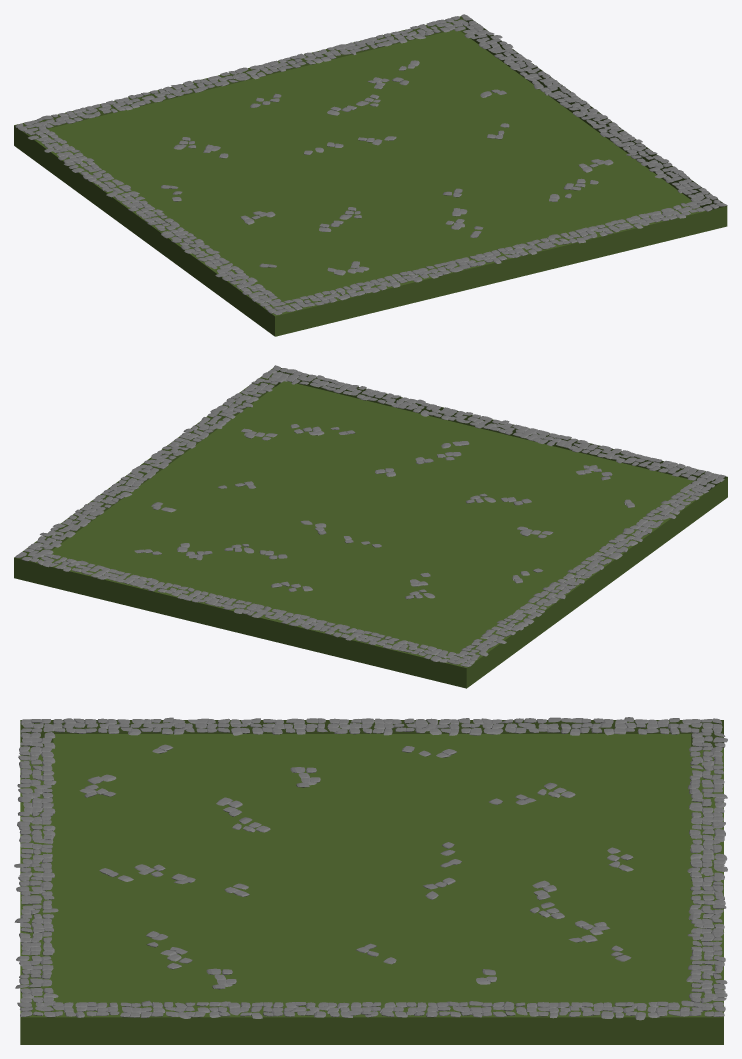
Rendered from Floor1.fbx.
The picture shows the model from 3 angles, top to bottom: view 1: azimuth 30°, elevation 25°; view 2: azimuth 150°, elevation 25°; view 3: azimuth 270°, elevation 25°; orthographic projection. The views are drawn at different scales.
Visible parts, largest first — view 1: Floor1; view 2: Floor1; view 3: Floor1.
Boxes of the visible parts, box(x1,y1,x2,y2) form: Floor1: box(14, 14, 727, 336); Floor1: box(14, 365, 727, 688); Floor1: box(14, 717, 727, 1044).
Size of the model in its own units: 10196 by 458 by 10148.
